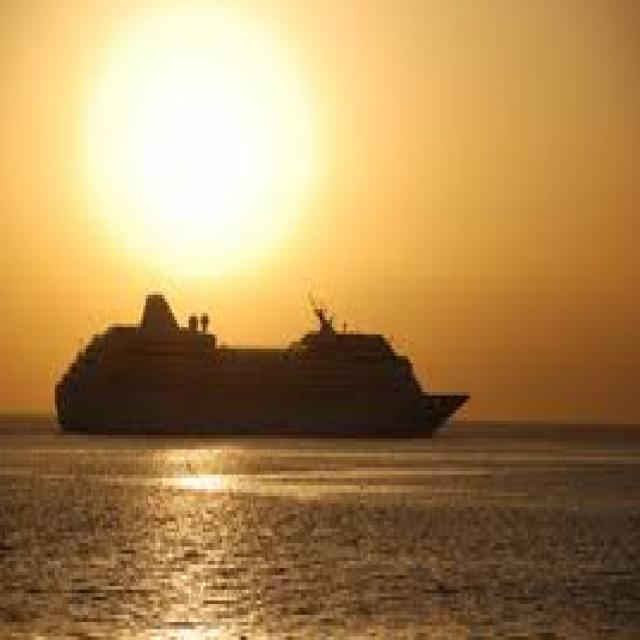passenger ship: (58, 286, 480, 439)
